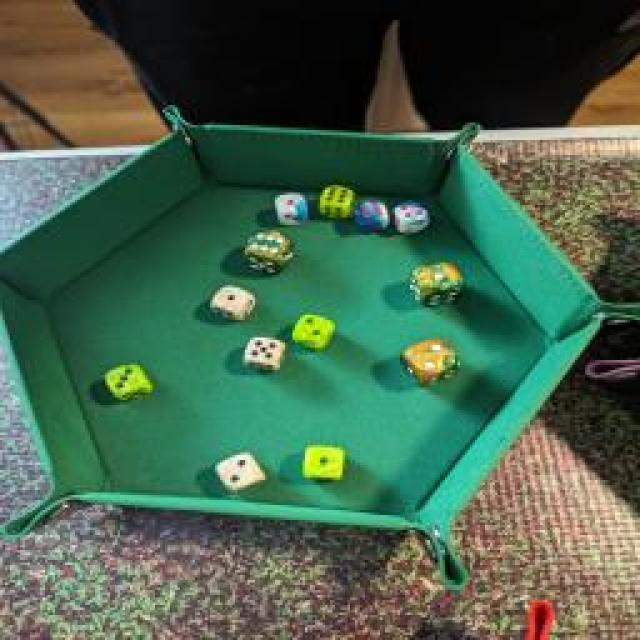dice_1: (405, 256, 467, 306), (299, 440, 349, 485), (208, 282, 260, 320), (270, 188, 315, 224)
dice_2: (399, 334, 461, 388), (211, 450, 269, 495), (284, 309, 338, 349)
dice_3: (99, 359, 156, 406)
dice_4: (389, 196, 436, 236)
dice_5: (238, 331, 288, 374)
dice_6: (238, 228, 300, 272), (313, 178, 355, 218), (348, 200, 390, 235)
